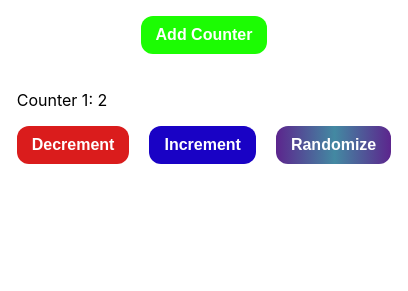
Scenario: Counter Component › adds a new counter with the same functionality with predefined value
Click the button "Add Counter" at (204, 35), box [141,16,268,54]
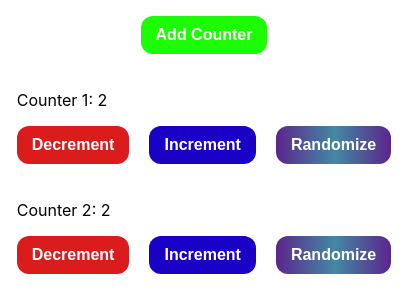
Check: the text "Counter 2: 2" is shown, box [17,200,110,220]
